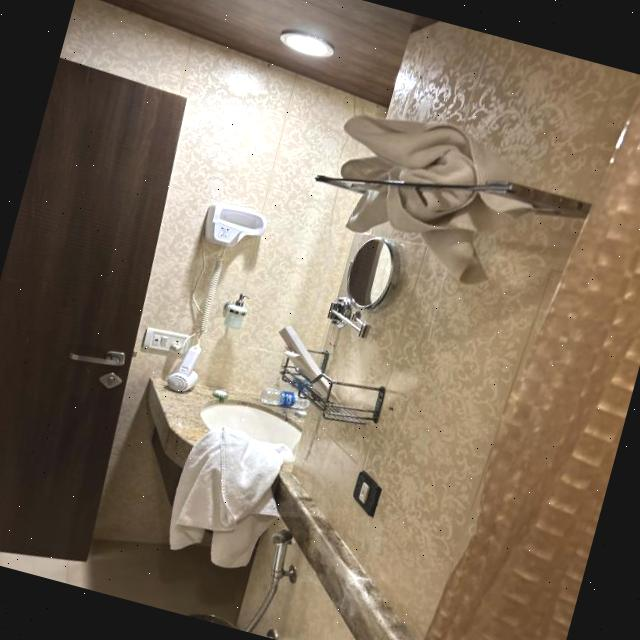disorganized_towel: (336, 112, 530, 284), (170, 423, 295, 568)
mess: (264, 323, 365, 408), (252, 380, 322, 416)
